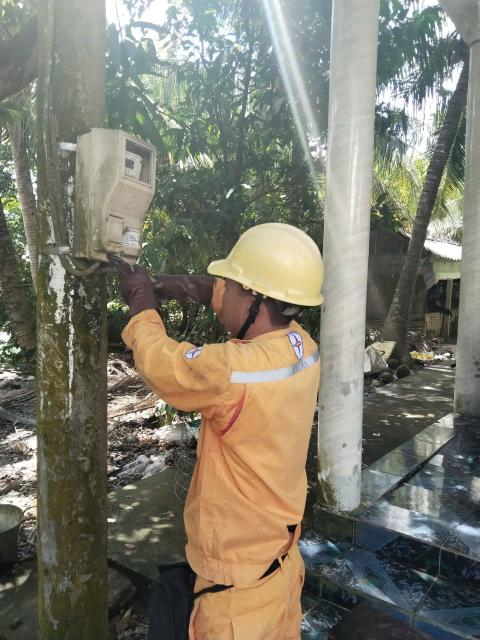gloves: (96, 238, 173, 341), (129, 258, 235, 318)
helmet: (191, 213, 357, 323)
